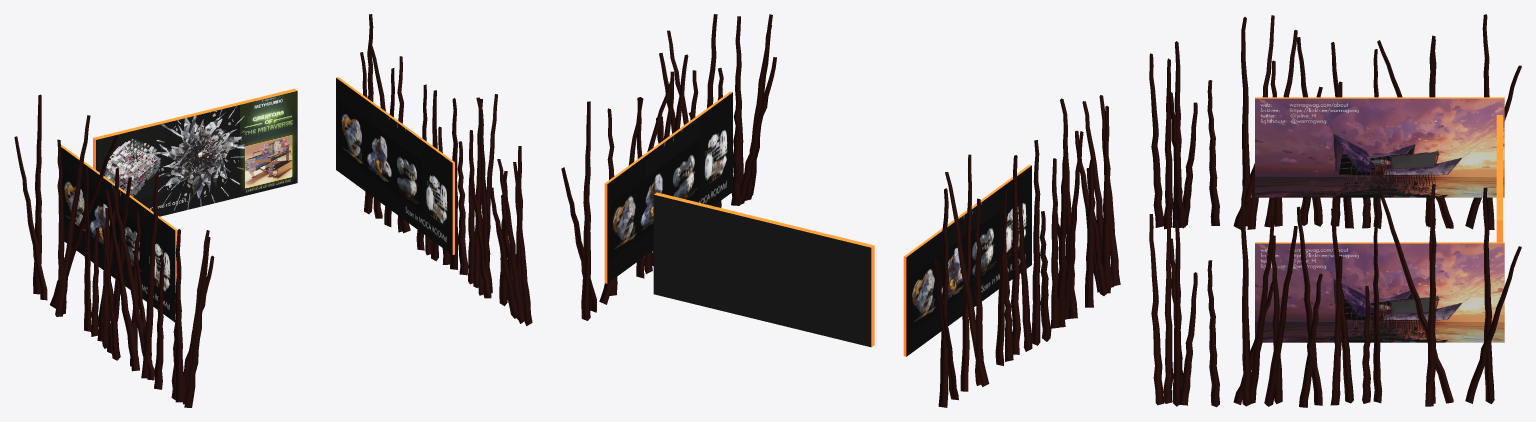
Rendered from WRG_M3-NeonB-VirtConf_Booth_simplygon.glb.
3 renders of one model, left to right at view 1: azimuth 30°, elevation 25°; view 2: azimuth 150°, elevation 25°; view 3: azimuth 270°, elevation 25°, orthographic. The views are drawn at different scales.
Visible parts, largest first — view 1: Cube.004_poster, GN_FenceLattice.001; view 2: Cube.004_poster, GN_FenceLattice.001; view 3: Cube.004_poster, GN_FenceLattice.001.
Part boxes in pixels (bbox=[...]): Cube.004_poster: bbox=[59, 77, 454, 322]; GN_FenceLattice.001: bbox=[14, 14, 532, 407]; Cube.004_poster: bbox=[604, 91, 1031, 356]; GN_FenceLattice.001: bbox=[561, 14, 1120, 407]; Cube.004_poster: bbox=[1255, 97, 1504, 342]; GN_FenceLattice.001: bbox=[1149, 14, 1521, 407].
Size of what is drawn, in the model's own units: 15.32 by 7.6 by 11.94.
4 materials, 1 textured.
